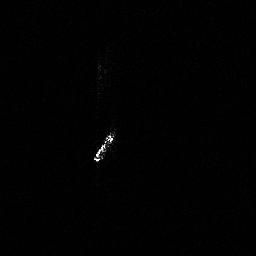ship: (90, 127, 120, 164)
